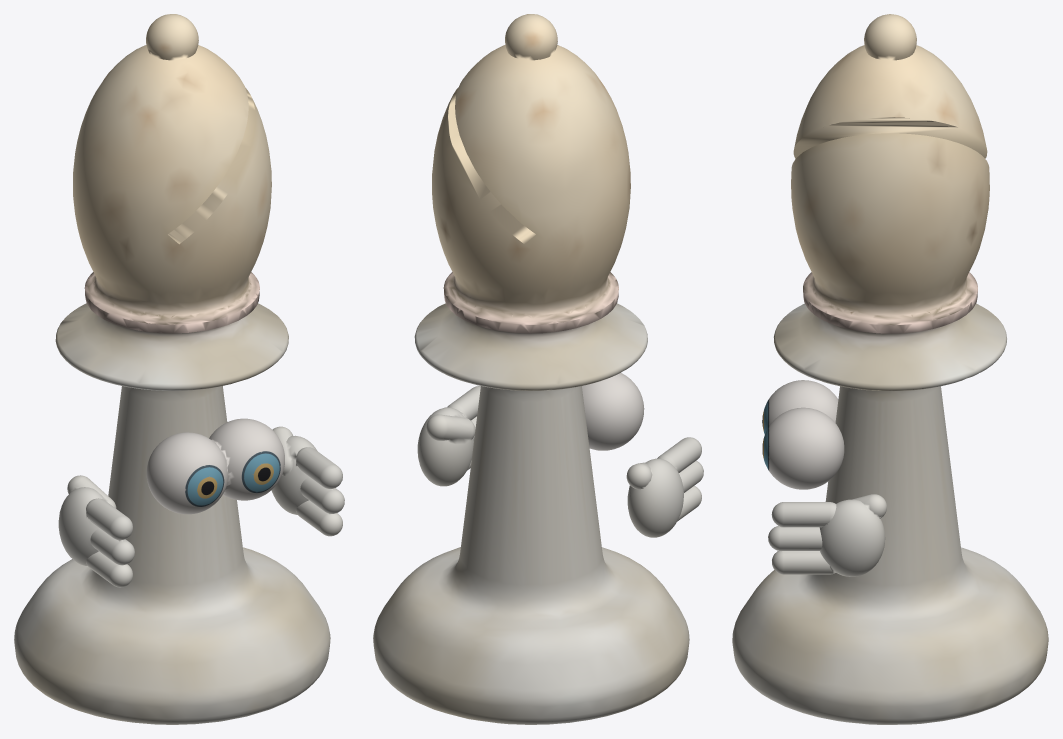
File: bishop-light.glb
The picture shows the model from 3 angles, left to right: view 1: azimuth 30°, elevation 25°; view 2: azimuth 150°, elevation 25°; view 3: azimuth 270°, elevation 25°; orthographic projection.
Parts seen in each view (by area): view 1: body, eye, hand.1, hand.0; view 2: body, hand.1, hand.0, eye; view 3: body, hand.0, eye.
Boxes of the visible parts, x1=… form: body: x1=14, y1=14, x2=330, y2=724; eye: x1=146, y1=418, x2=284, y2=514; hand.1: x1=58, y1=475, x2=134, y2=587; hand.0: x1=271, y1=426, x2=344, y2=536; body: x1=373, y1=14, x2=689, y2=724; hand.1: x1=626, y1=437, x2=703, y2=537; hand.0: x1=417, y1=386, x2=480, y2=486; eye: x1=582, y1=373, x2=644, y2=450; body: x1=732, y1=14, x2=1048, y2=724; hand.0: x1=768, y1=494, x2=886, y2=576; eye: x1=762, y1=380, x2=844, y2=489.
Size of the model in its own units: 2.04 by 4.62 by 2.04.
